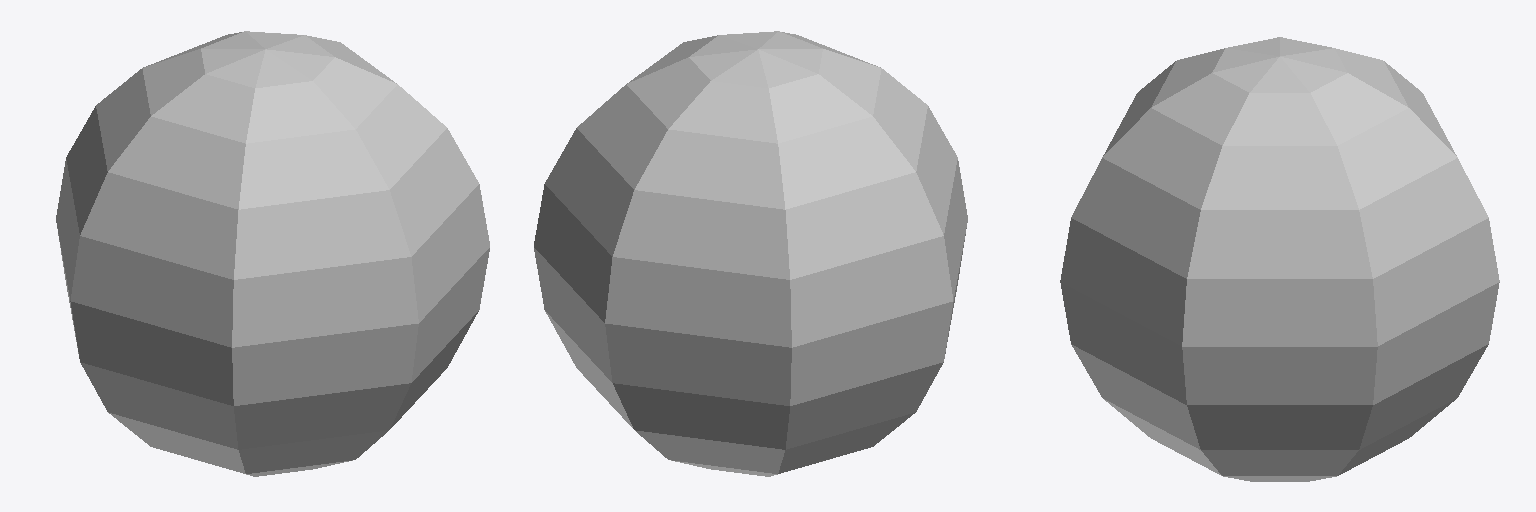
File: ball.obj
3 renders of one model, left to right at view 1: azimuth 30°, elevation 25°; view 2: azimuth 150°, elevation 25°; view 3: azimuth 270°, elevation 25°, orthographic.
Visible parts, largest first — view 1: Sphere; view 2: Sphere; view 3: Sphere.
Part boxes in pixels (left/top/right/bottom): Sphere: left=56, top=31, right=489, bottom=476; Sphere: left=534, top=31, right=967, bottom=476; Sphere: left=1060, top=37, right=1499, bottom=481.
Bounding box in the file's own units: 0.3802 × 0.4 × 0.39.